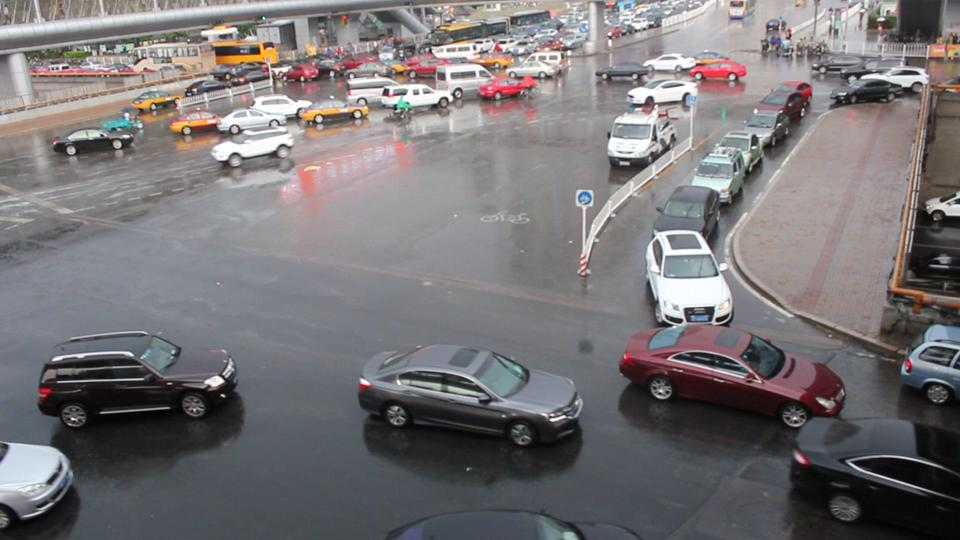Car: (358, 340, 583, 445), (620, 322, 847, 426), (789, 413, 960, 540), (38, 331, 233, 423), (644, 226, 733, 324), (1, 439, 75, 527), (898, 322, 960, 398), (654, 179, 722, 246), (690, 146, 747, 204), (211, 125, 295, 164), (709, 127, 764, 176), (54, 124, 134, 154), (378, 81, 453, 111), (300, 94, 370, 125), (216, 106, 288, 133), (624, 78, 695, 105), (249, 92, 314, 121), (742, 105, 790, 144), (761, 90, 808, 127), (170, 109, 230, 132), (775, 79, 815, 111), (478, 76, 533, 99)
Minivan: (432, 63, 497, 97), (343, 76, 407, 107)
Truck: (605, 110, 676, 168)
